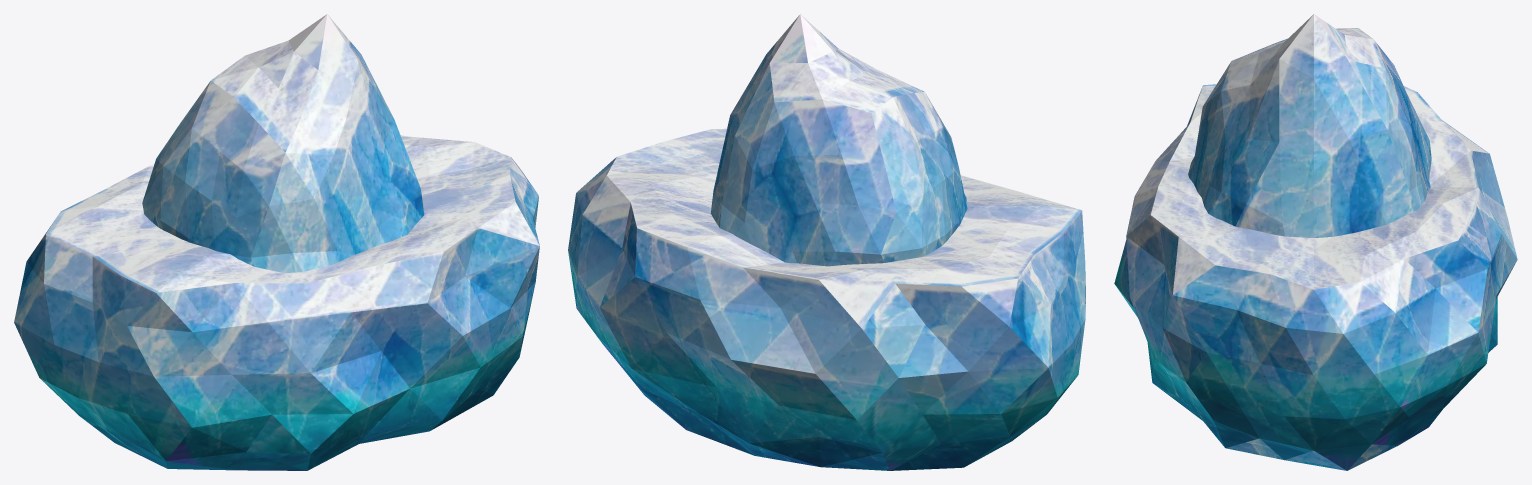
File: ice.glb
3 renders of one model, left to right at view 1: azimuth 30°, elevation 25°; view 2: azimuth 150°, elevation 25°; view 3: azimuth 270°, elevation 25°, orthographic.
Visible parts, largest first — view 1: Ice_A, Ice_B; view 2: Ice_A, Ice_B; view 3: Ice_A, Ice_B.
Boxes of the visible parts, bbox=[...] form: Ice_A: bbox=[14, 135, 539, 470]; Ice_B: bbox=[142, 14, 424, 273]; Ice_A: bbox=[568, 128, 1085, 470]; Ice_B: bbox=[710, 14, 967, 266]; Ice_A: bbox=[1114, 84, 1517, 470]; Ice_B: bbox=[1188, 14, 1431, 237].
Size of the model in its own units: 6.51 by 4.96 by 4.67.
Materials: 5 (5 with a texture image).
